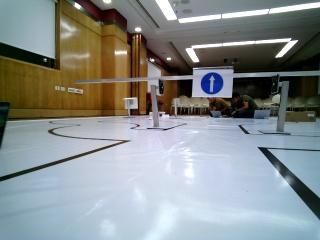straight: (191, 65, 234, 98)
